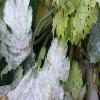Squash Powdery mildew leaf: (8, 35, 70, 99), (0, 0, 32, 66)
